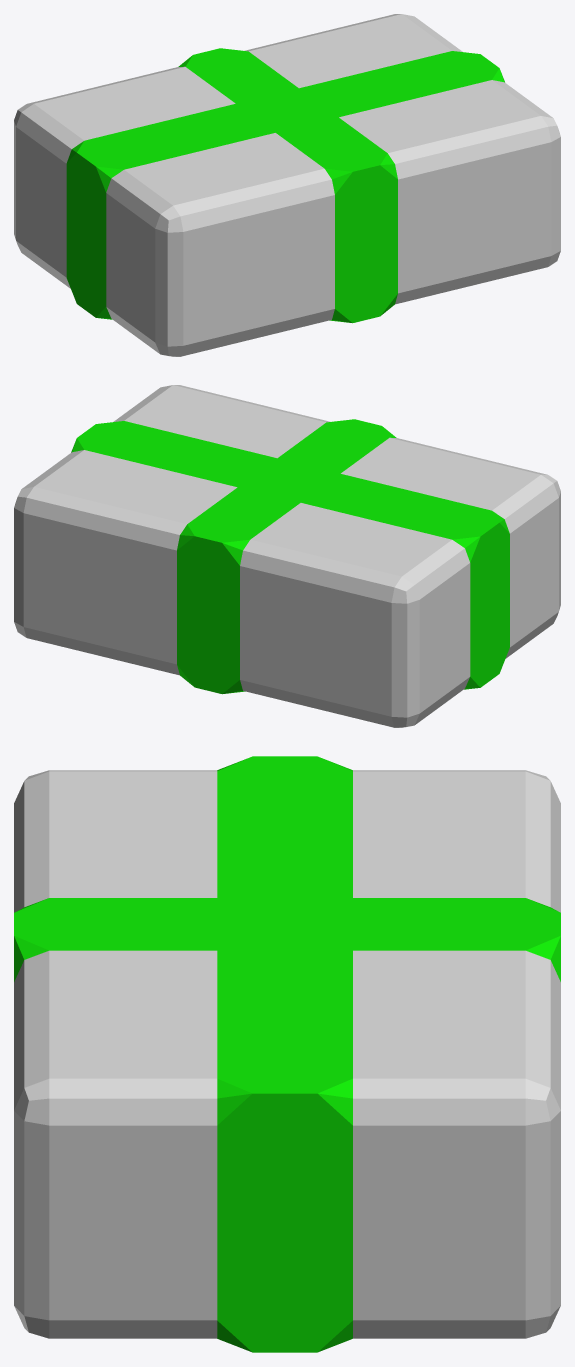
Rendered from pack.fbx.
3 renders of one model, top to bottom at view 1: azimuth 30°, elevation 25°; view 2: azimuth 150°, elevation 25°; view 3: azimuth 270°, elevation 25°, orthographic. The views are drawn at different scales.
Visible parts, largest first — view 1: Cube; view 2: Cube; view 3: Cube.
Part boxes in pixels (x1,y1,x2,y2): Cube: [14, 14, 560, 356]; Cube: [14, 385, 560, 727]; Cube: [14, 756, 560, 1352].
Size of the model in its own units: 178 by 63.75 by 122.
